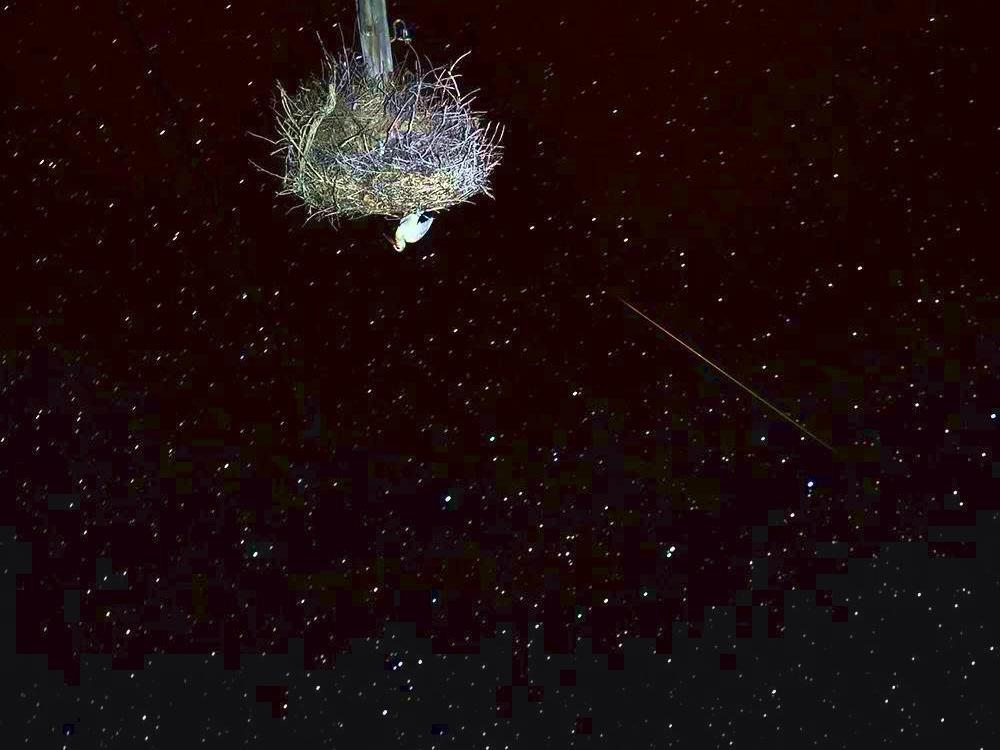meteorite: (589, 274, 805, 421)
